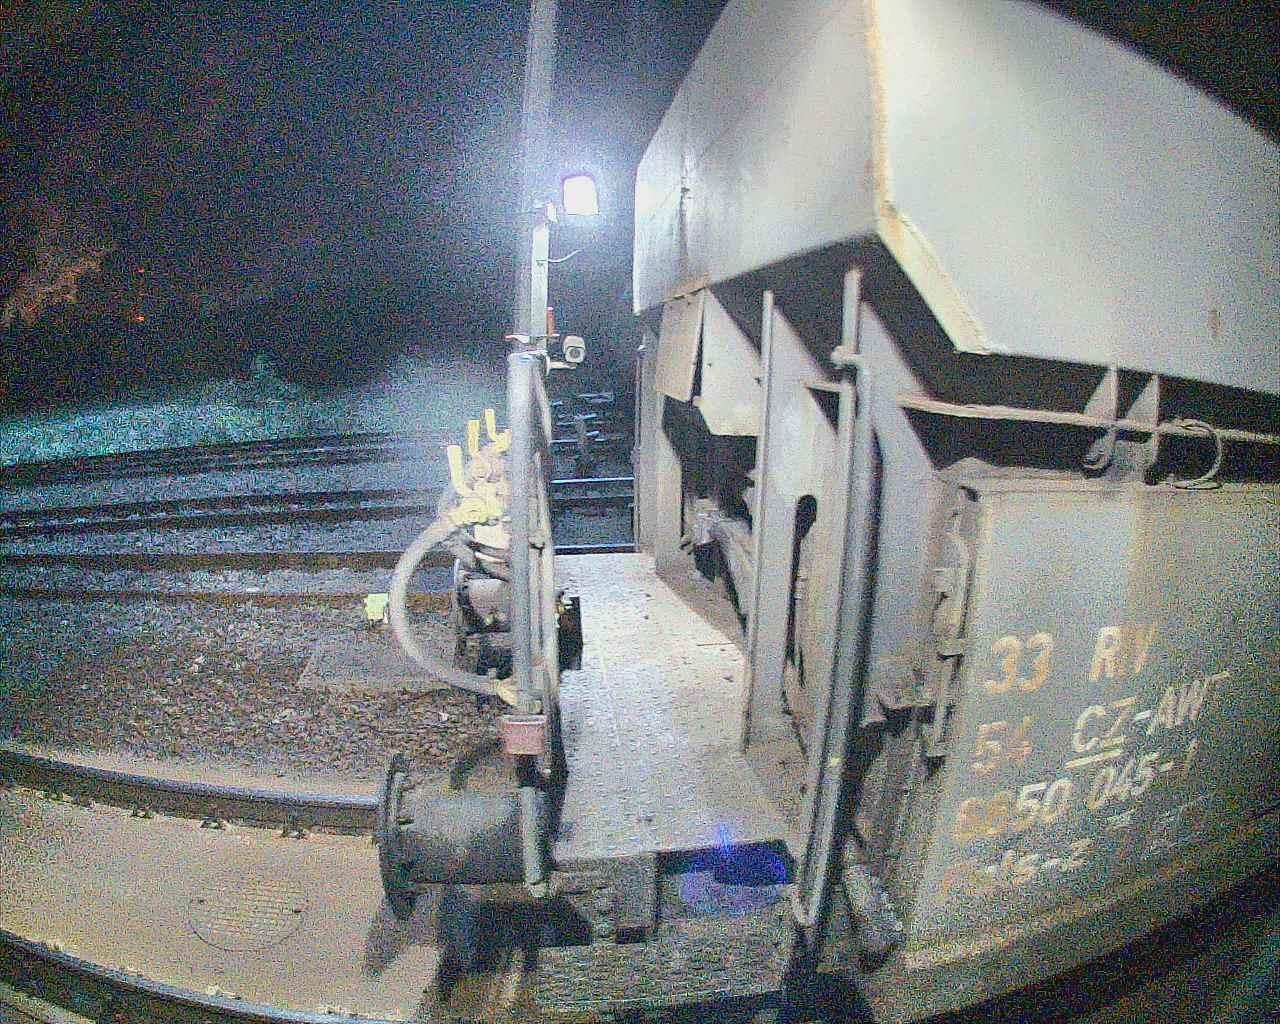UIC: (926, 623, 1228, 913)
